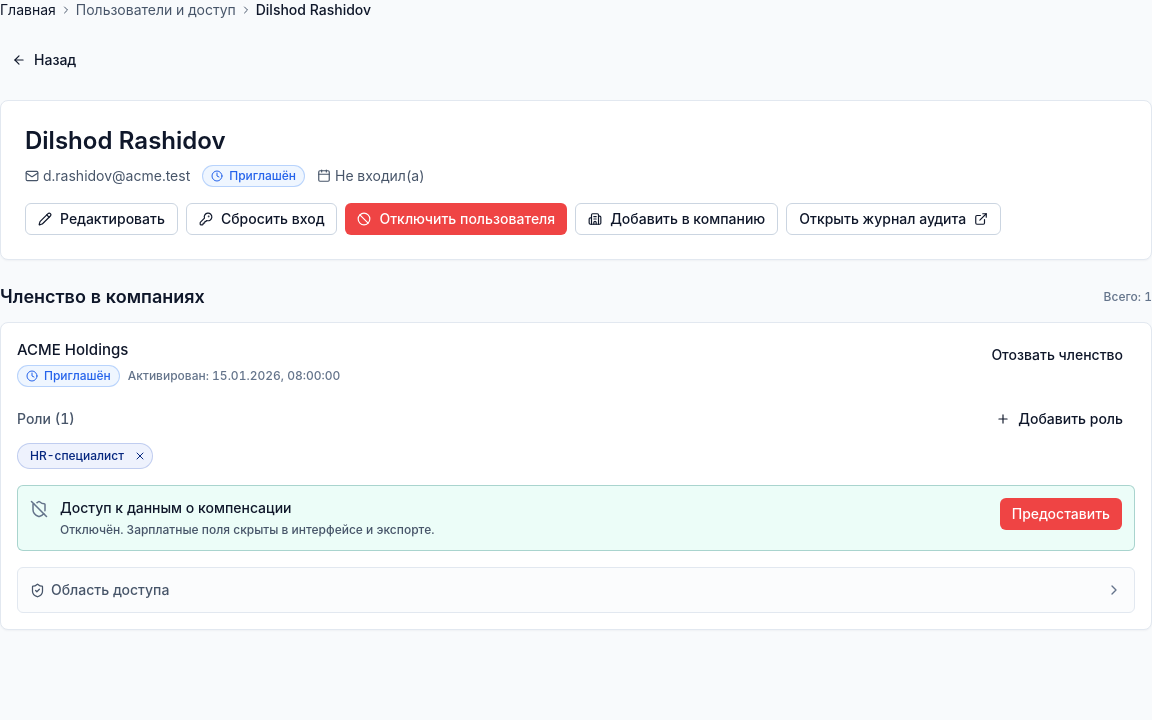
Test case: <UserDetailsPage /> user-level actions › reset-login flow posts the password and shows the success banner
Expected: the heading "Dilshod Rashidov" is shown, x1=25 y1=126 x2=226 y2=155
Click the button with test id "reset-login-button" at (262, 219), box x1=186 y1=203 x2=338 y2=235
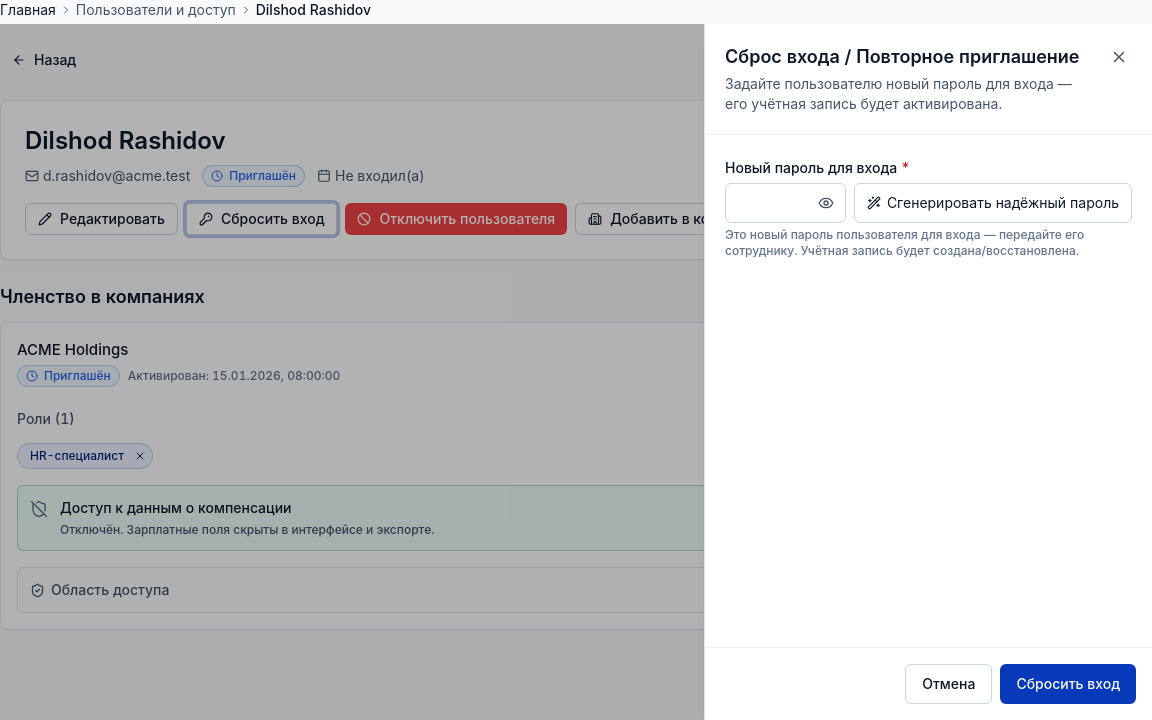
Type "Str0ng!Passw0rd" into the password field with test id "reset-login-password-input" at (785, 203), box x1=725 y1=183 x2=846 y2=223
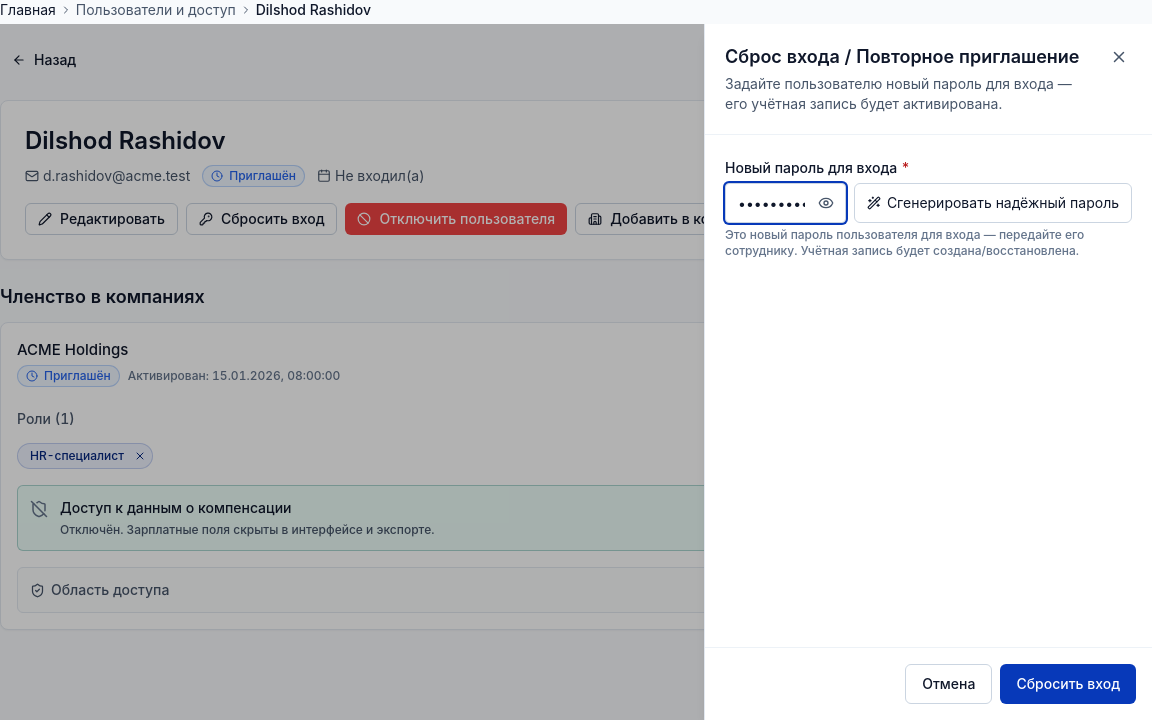
Click the button "Сбросить вход" at (1068, 684), box x1=1000 y1=664 x2=1136 y2=704
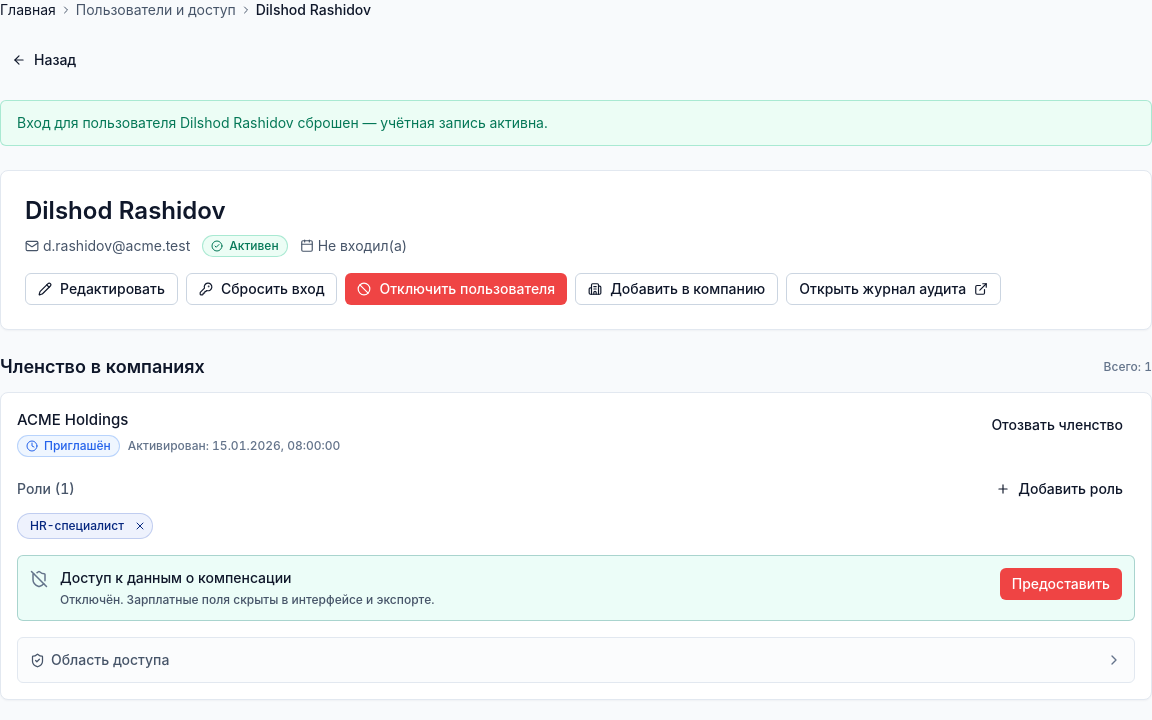
Result: the message "Вход для пользователя Dilshod Rashidov сброшен — учётная запись активна." is shown at x1=0 y1=100 x2=1151 y2=146
